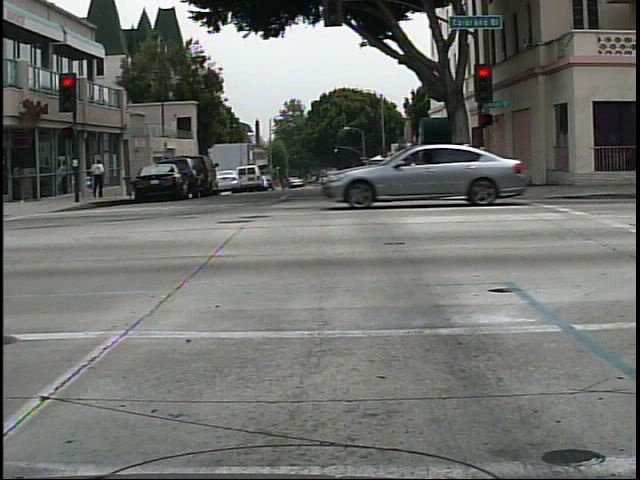person: (467, 142, 497, 194), (91, 154, 110, 203)
